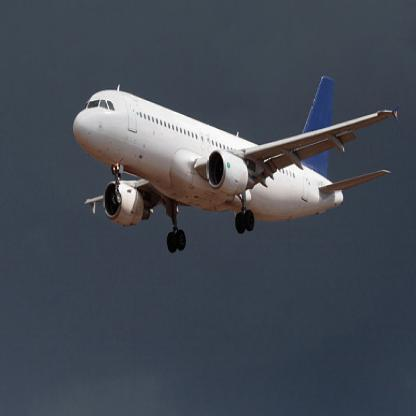CIV_Plane: (67, 61, 401, 270)
